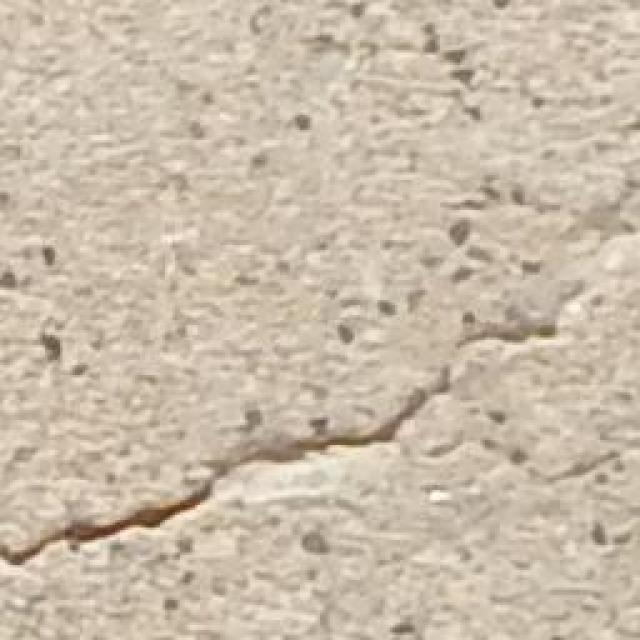concrete-crack: (0, 182, 636, 573)
